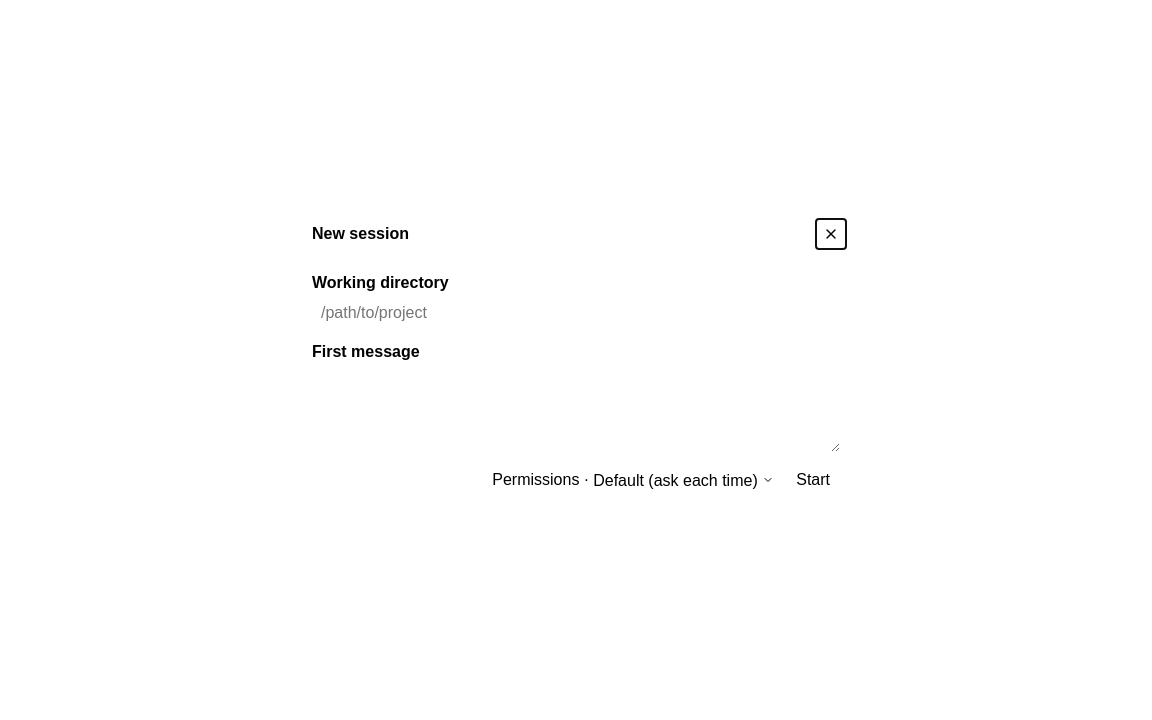
Test case: NewSessionDialog › needs an absolute directory and a first message before starting
The image size is (1152, 720).
Expected: the button "Start" is disabled, left=786, top=466, right=840, bottom=494
Type "Dev/x" into the field labelled "Working directory" at point(576, 313), box left=312, top=297, right=840, bottom=329
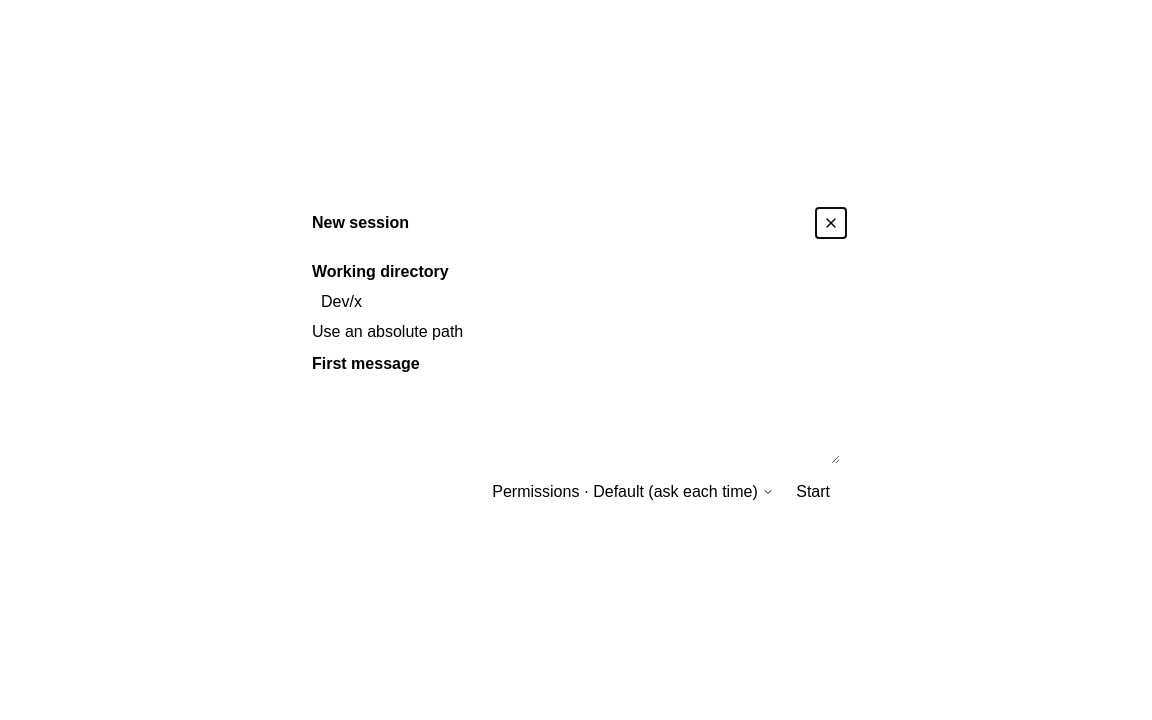
Type "hi" into the text box labelled "First message" at point(576, 420), box left=312, top=378, right=840, bottom=464
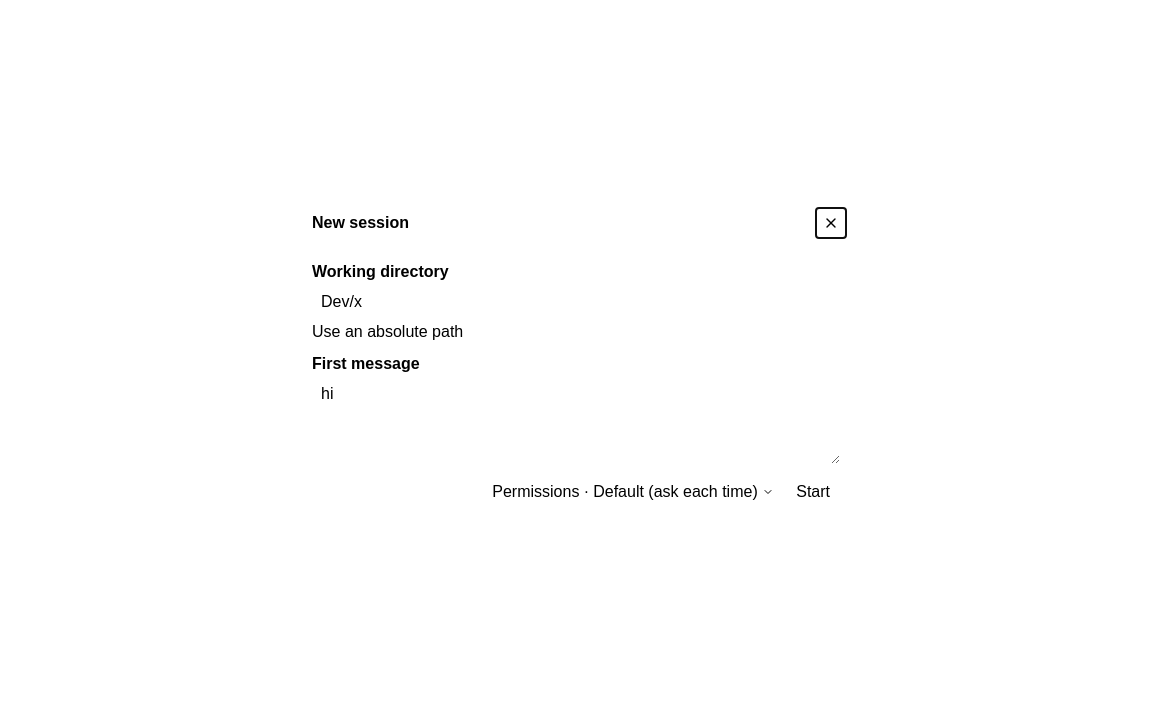
Expected: the button "Start" is disabled, left=786, top=478, right=840, bottom=506
Now the text "Use an absolute path" is shown, box left=312, top=322, right=463, bottom=340
Replace the text in the field labelled "Working directory" with "/w/x" at point(576, 302), box left=312, top=286, right=840, bottom=318
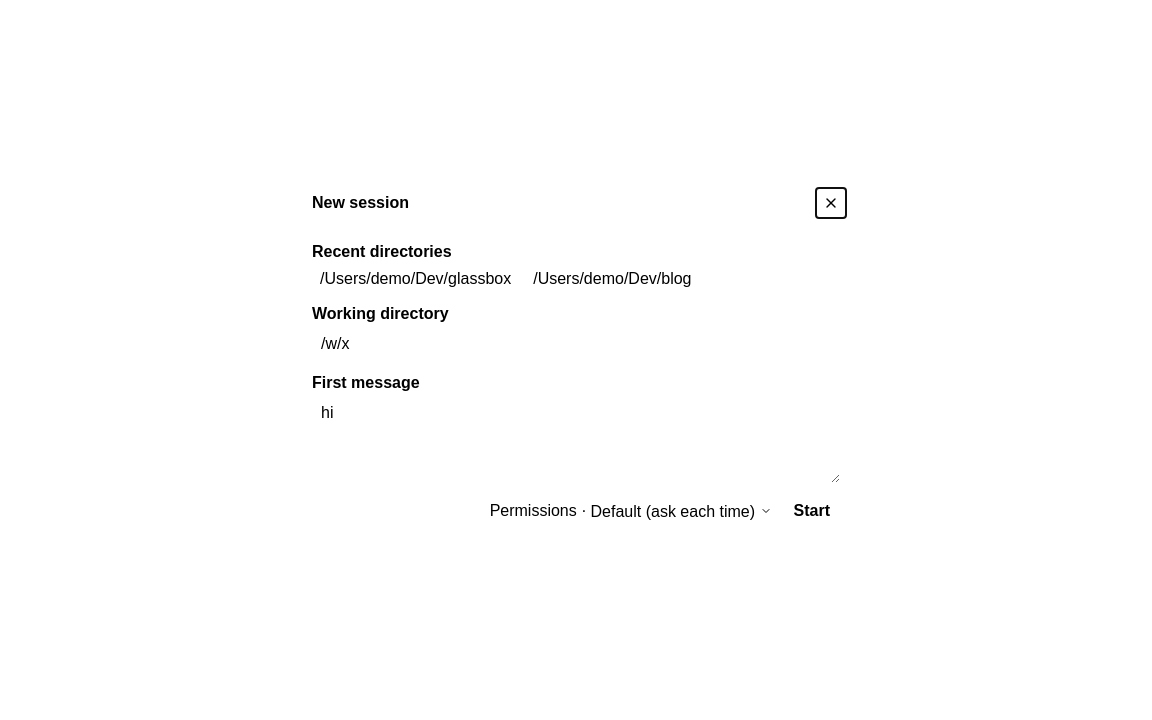
Now the button "Start" is enabled, box left=784, top=497, right=840, bottom=525
